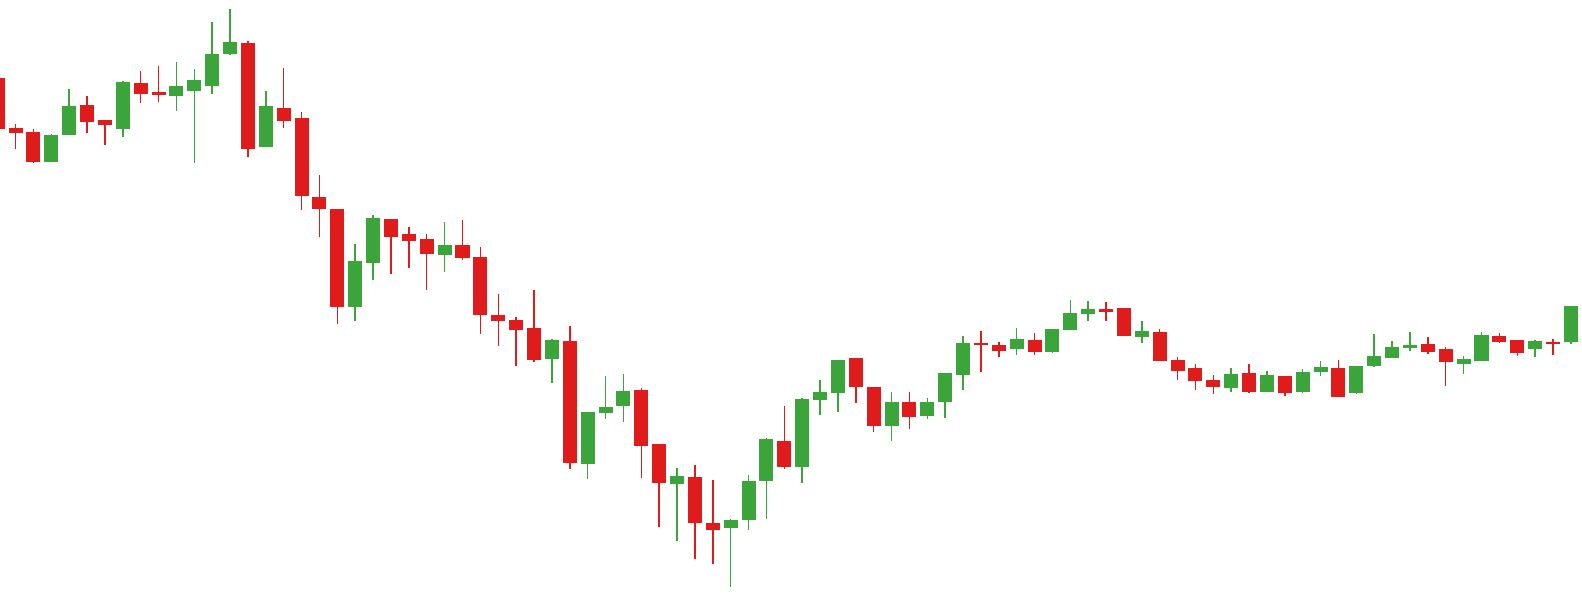sell: (133, 3, 257, 123)
